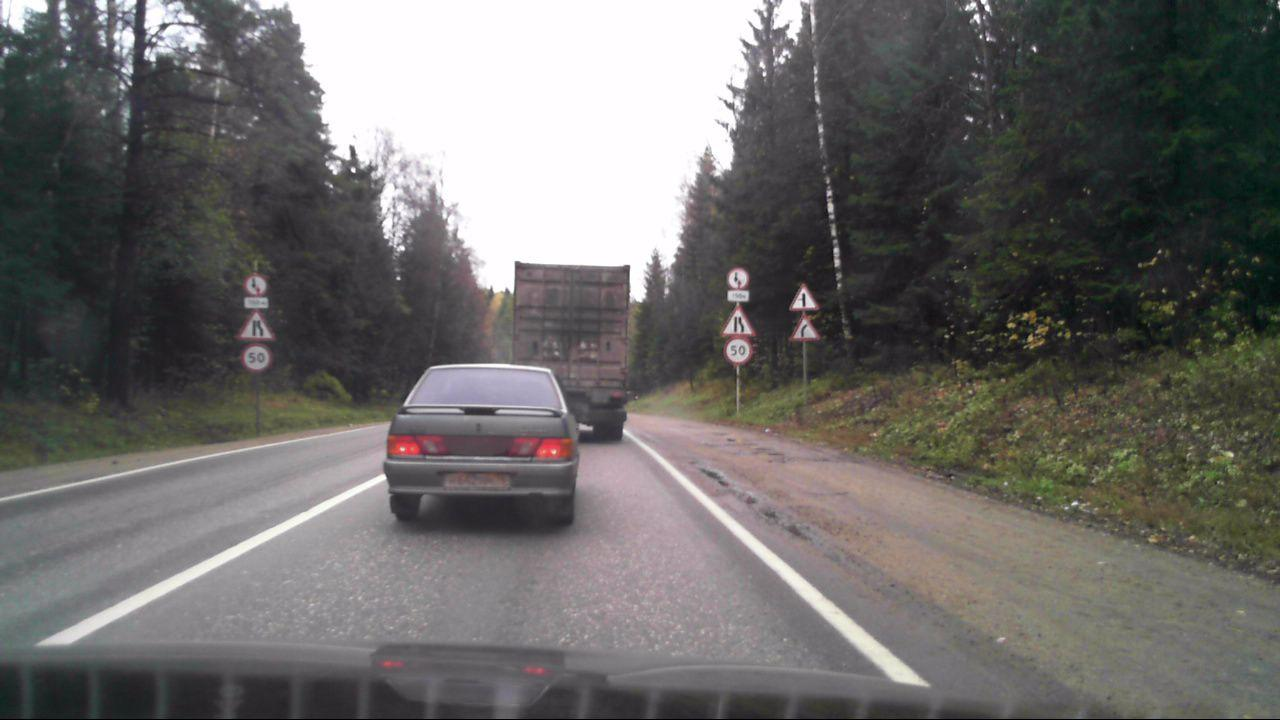1_11_1: (786, 314, 821, 342)
1_20_2: (719, 305, 758, 336), (238, 310, 272, 341)
2_3_3: (790, 283, 818, 310)
2_6: (244, 274, 266, 296), (726, 267, 748, 289)
3_24: (241, 344, 273, 373), (723, 337, 753, 367)
8_1_1: (726, 290, 750, 302), (244, 298, 270, 308)
